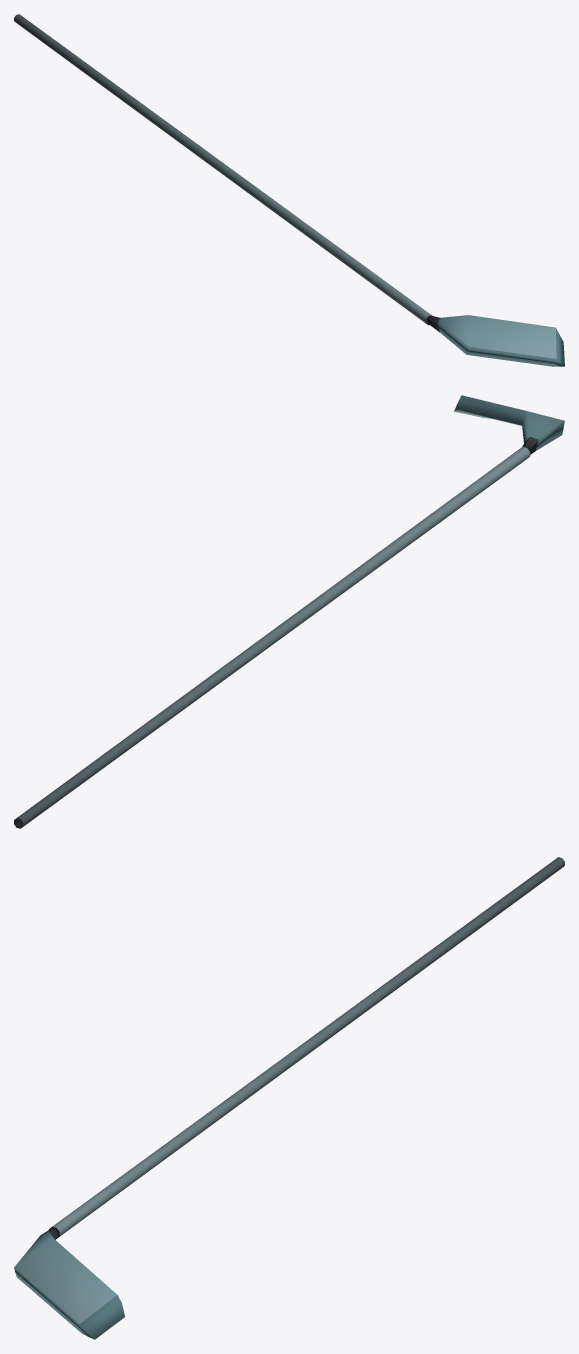
Rendered from human-sports-golf-club_v1.glb.
3 views of the same model, one above another, from view 1: azimuth 30°, elevation 25°; view 2: azimuth 150°, elevation 25°; view 3: azimuth 330°, elevation 25° (orthographic). The views are drawn at different scales.
Visible parts, largest first — view 1: Golf Club_v1; view 2: Golf Club_v1; view 3: Golf Club_v1.
Boxes of the visible parts, box(x1,y1,x2,y2) form: Golf Club_v1: box(14, 14, 564, 366); Golf Club_v1: box(14, 395, 564, 828); Golf Club_v1: box(14, 857, 564, 1339).
Bounding box in the file's own units: 0.1242 × 0.0529 × 1.
